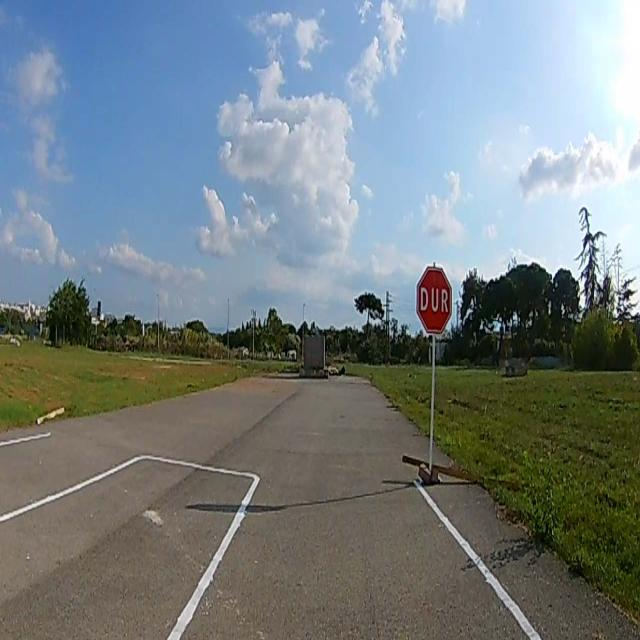dur: (417, 266, 452, 332)
